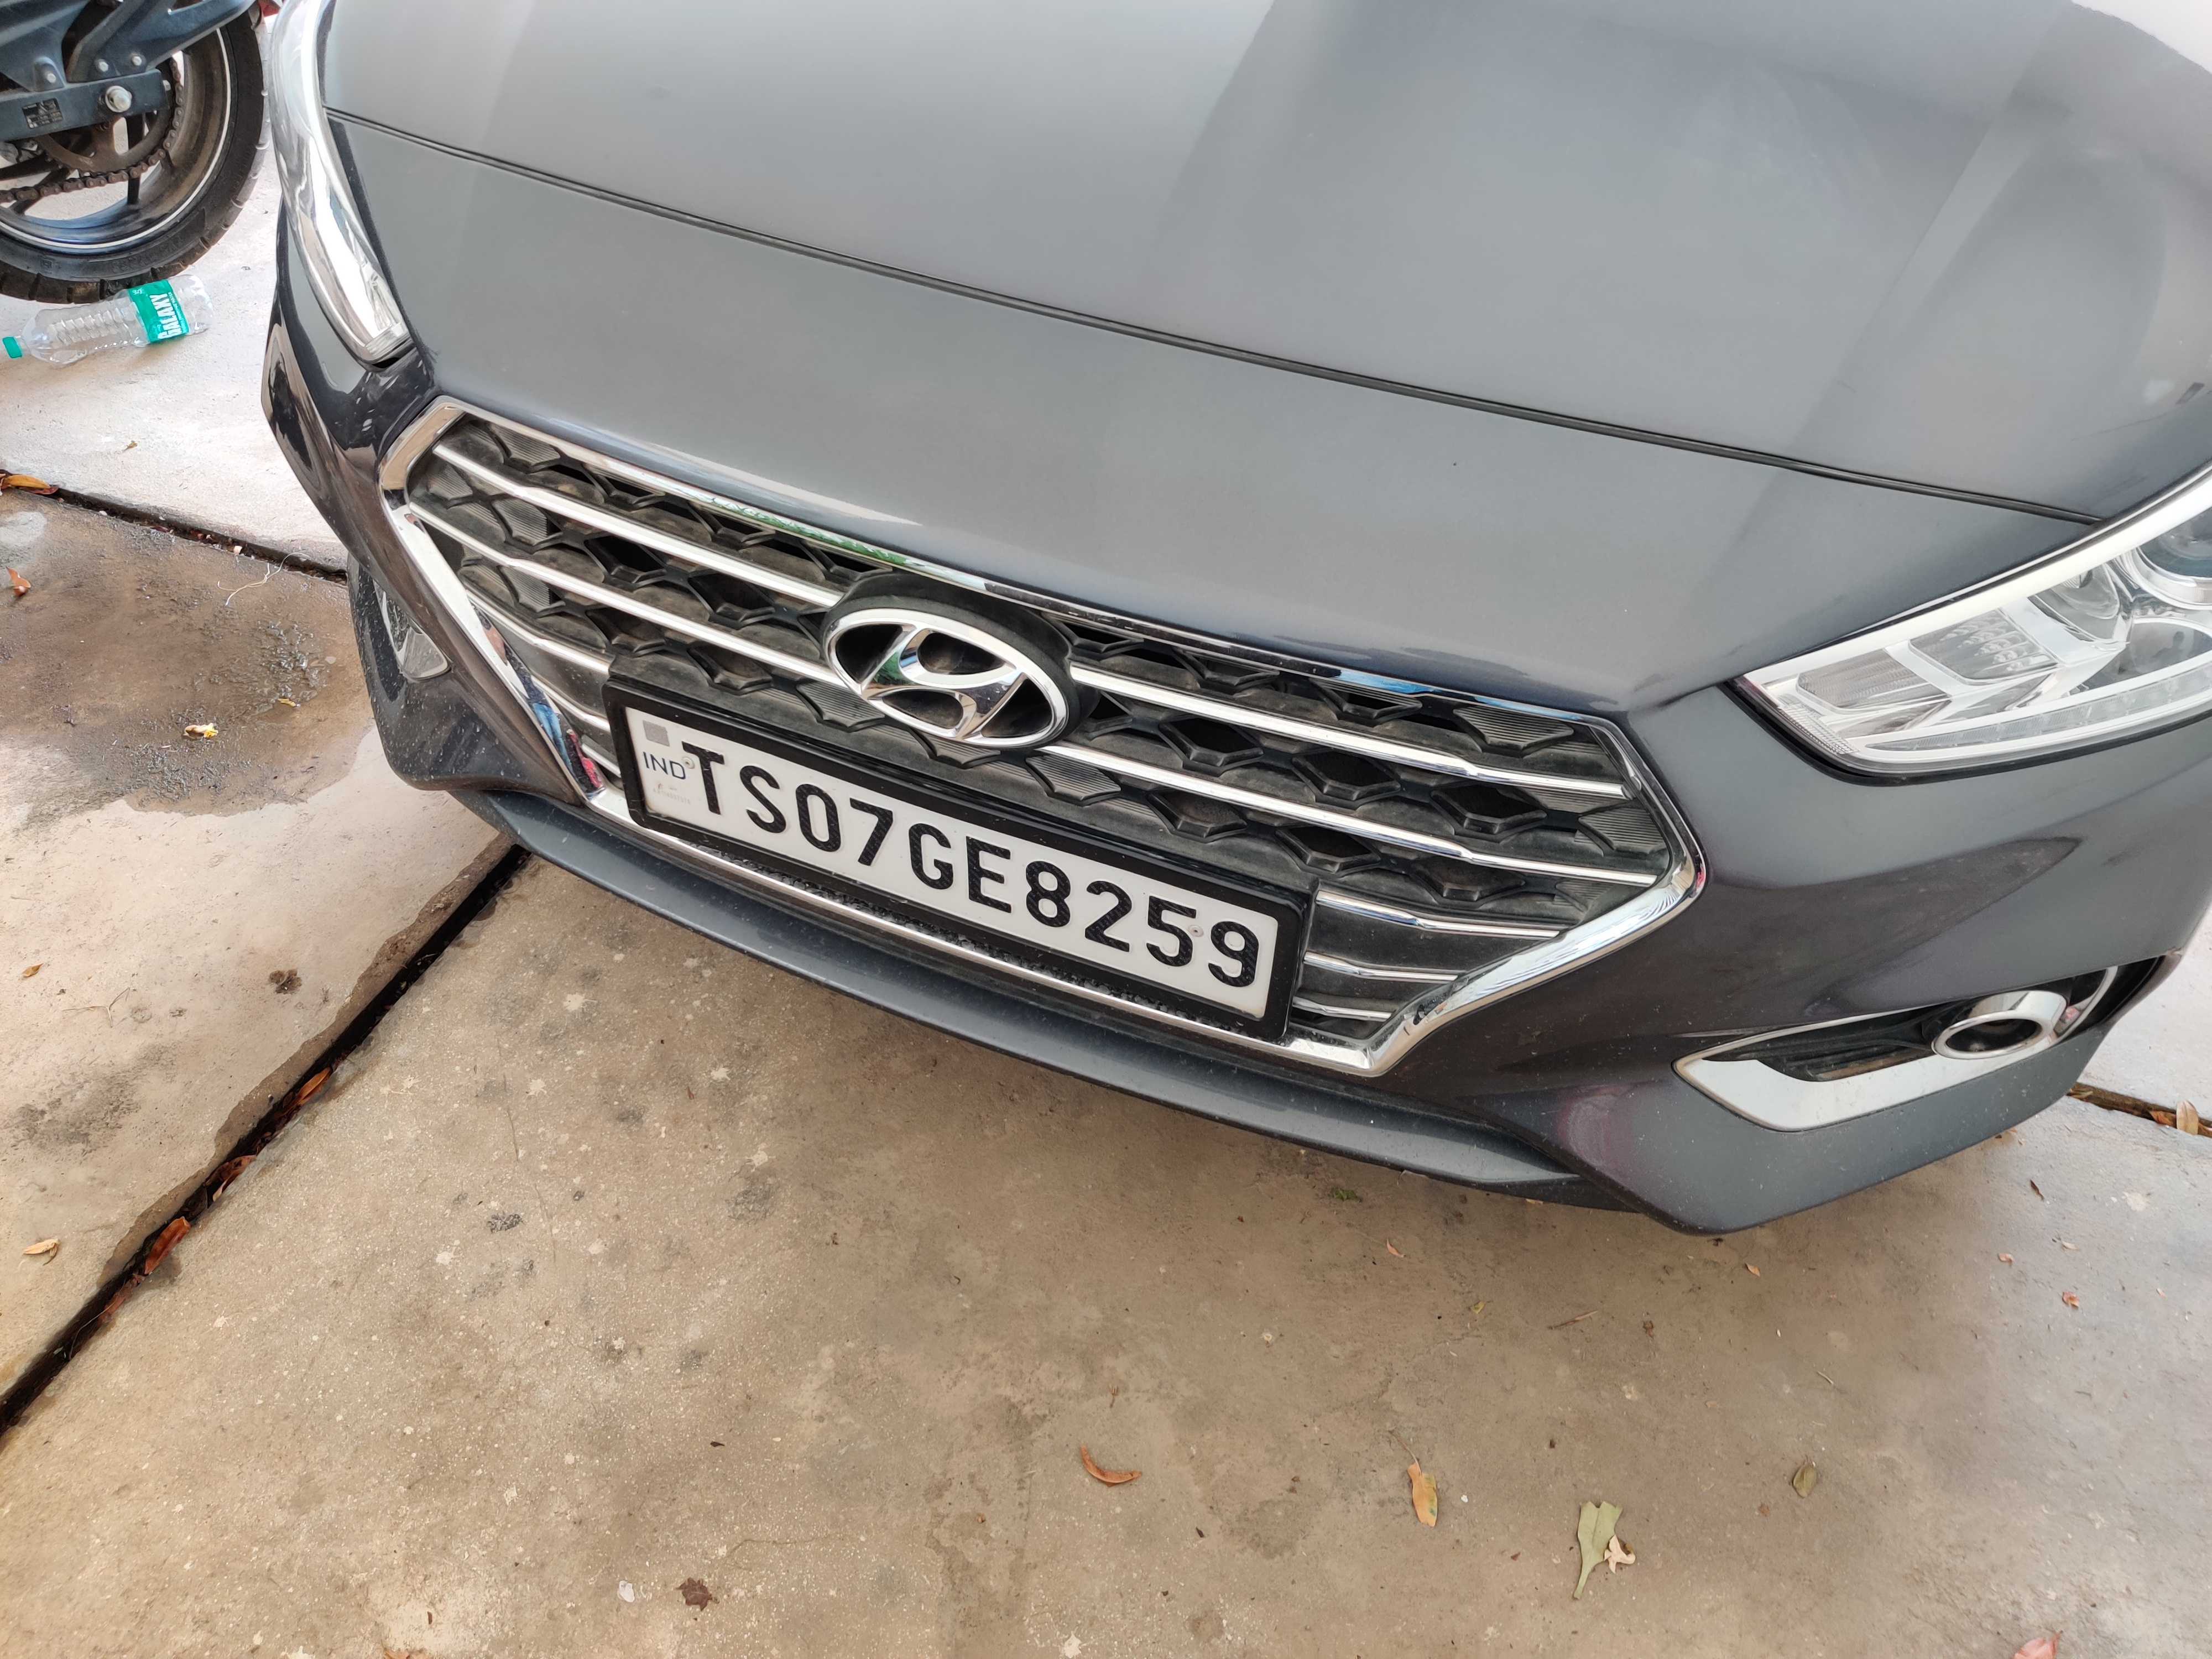plate: (594, 643, 1345, 1108)
